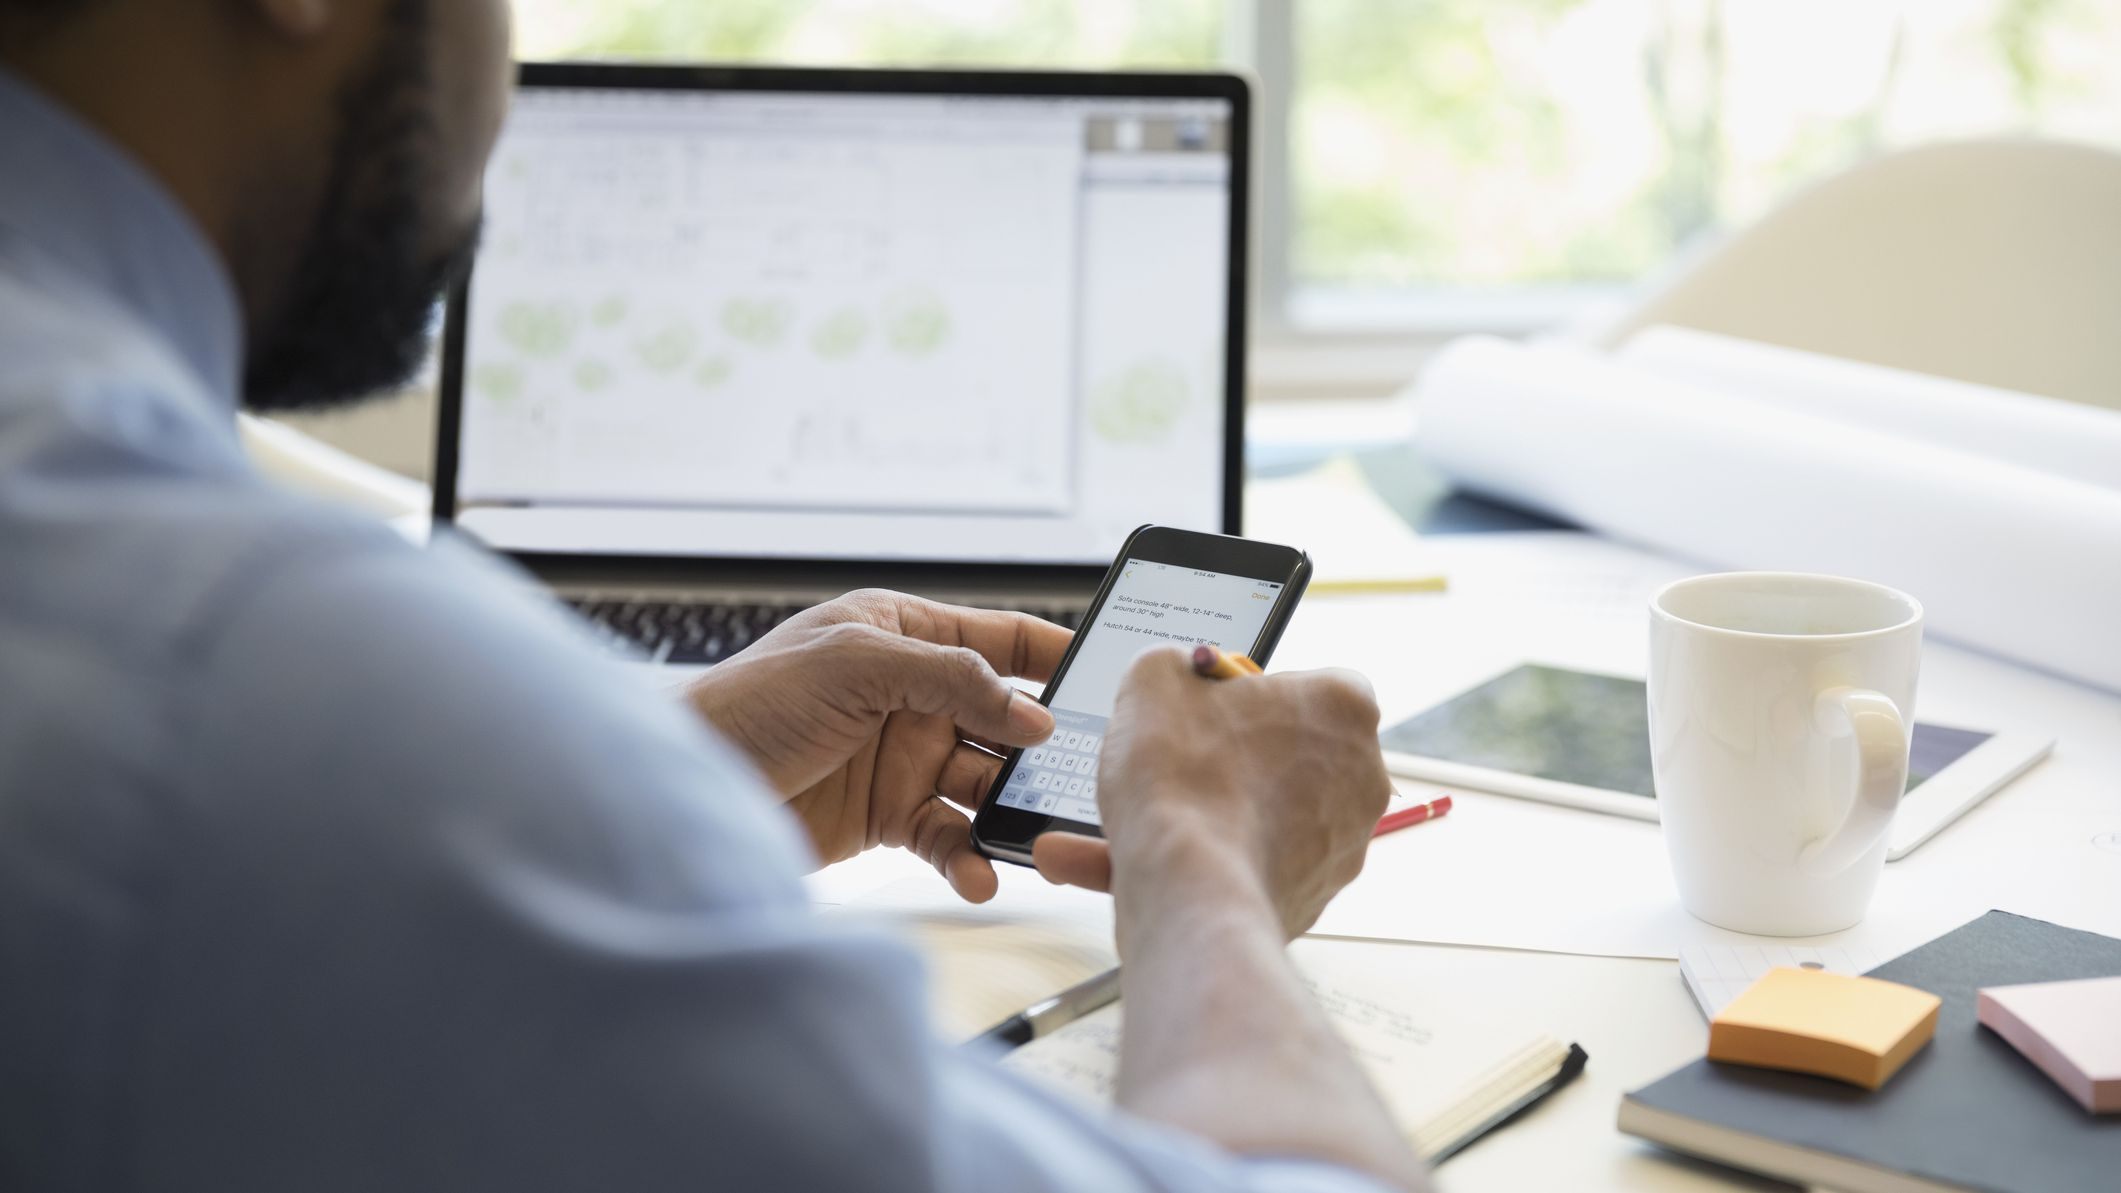Cell Phone: (956, 513, 1327, 887)
